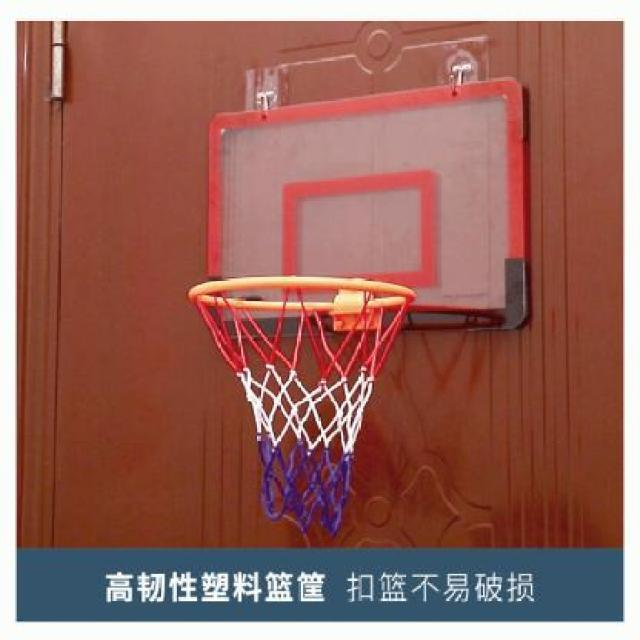rim: (190, 278, 412, 536)
